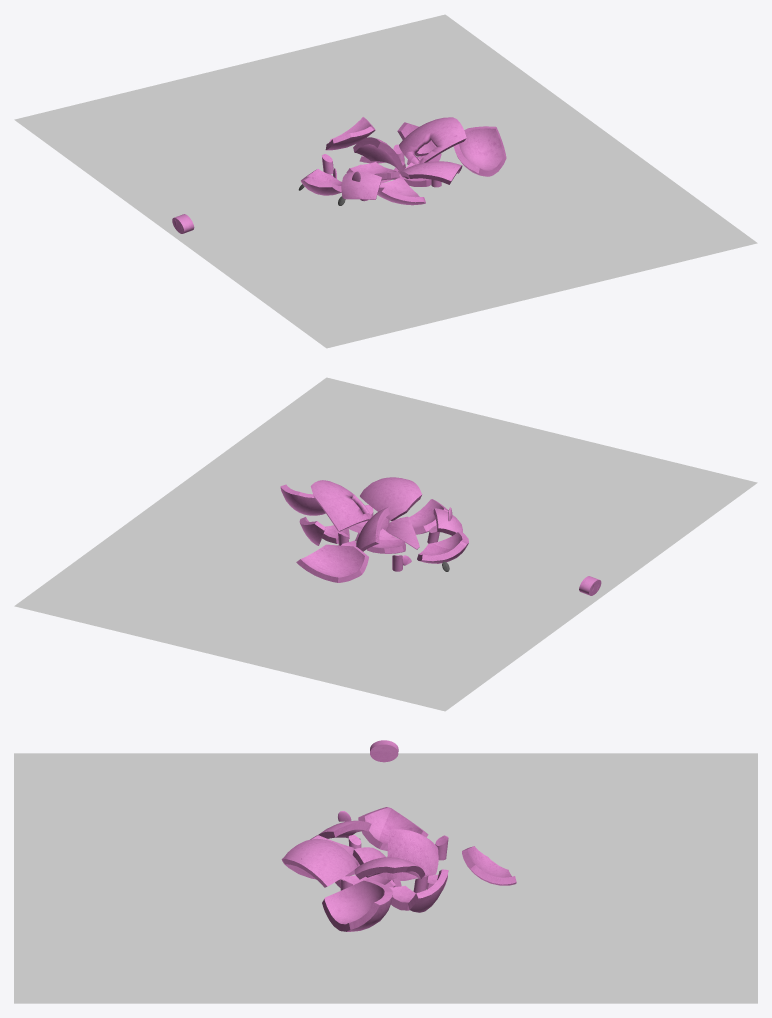
The model's file is piggy_bank_broken.fbx.
The picture shows the model from 3 angles, top to bottom: view 1: azimuth 30°, elevation 25°; view 2: azimuth 150°, elevation 25°; view 3: azimuth 270°, elevation 25°; orthographic projection. The views are drawn at different scales.
Visible parts, largest first — view 1: Plane, Sphere_cell.006, Sphere_cell.012, Sphere_cell.004, Sphere_cell.001, Sphere_cell.003, Sphere_cell.010, Sphere_cell.009, Sphere_cell.014; view 2: Plane, Sphere_cell.009, Sphere_cell.012, Sphere_cell.004, Sphere_cell.014, Sphere_cell.006, Sphere_cell.003, Sphere_cell.010, Sphere_cell.005, Sphere_cell.013; view 3: Plane, Sphere_cell.006, Sphere_cell.004, Sphere_cell.003, Sphere_cell.014, Sphere_cell.009, Sphere_cell.012, Sphere_cell.008, Sphere_cell.001, Cylinder.004, Sphere_cell.007.
Part boxes in pixels (x1,y1,x2,y2): Plane: (14,14,757,348); Sphere_cell.006: (453,126,506,176); Sphere_cell.012: (399,117,466,164); Sphere_cell.004: (399,161,462,184); Sphere_cell.001: (341,171,381,199); Sphere_cell.003: (353,137,403,170); Sphere_cell.010: (377,176,425,205); Sphere_cell.009: (325,117,375,150); Sphere_cell.014: (301,169,341,195); Plane: (14,377,757,711); Sphere_cell.009: (296,544,368,582); Sphere_cell.012: (310,480,371,531); Sphere_cell.004: (360,477,422,520); Sphere_cell.014: (417,532,468,563); Sphere_cell.006: (280,484,325,515); Sphere_cell.003: (356,507,389,551); Sphere_cell.010: (408,499,448,534); Sphere_cell.005: (385,516,419,549); Sphere_cell.013: (367,528,405,553); Plane: (14,753,757,1003); Sphere_cell.006: (322,879,392,931); Sphere_cell.004: (282,838,357,887); Sphere_cell.003: (387,829,438,879); Sphere_cell.014: (358,807,428,850); Sphere_cell.009: (462,846,516,885); Sphere_cell.012: (354,857,425,879); Sphere_cell.008: (408,869,448,912); Sphere_cell.001: (318,820,371,838); Cylinder.004: (370,740,398,762); Sphere_cell.007: (389,885,415,910).
Size of the model in its own units: 955 by 98.18 by 1198.
